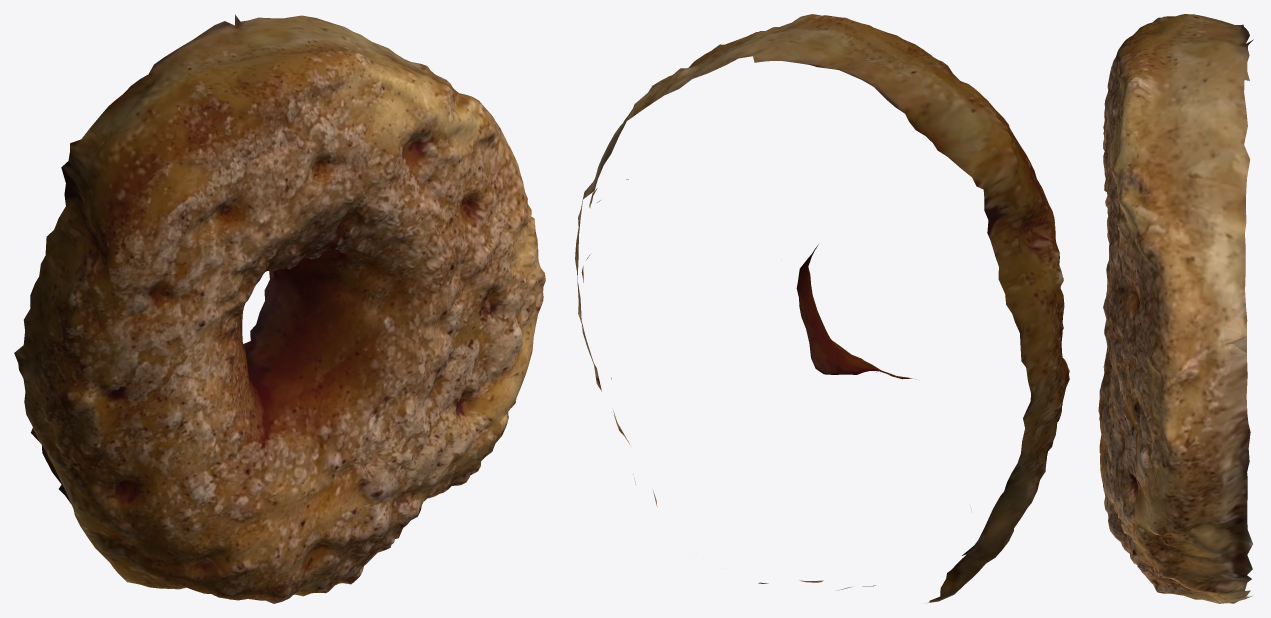
File: donut-transformed.glb
3 views of the same model, side by side, from view 1: azimuth 30°, elevation 25°; view 2: azimuth 150°, elevation 25°; view 3: azimuth 270°, elevation 25° (orthographic). The views are drawn at different scales.
Parts seen in each view (by area): view 1: Donut.001; view 2: Donut.001; view 3: Donut.001.
Part boxes in pixels (left/top/right/bottom): Donut.001: left=14, top=14, right=545, bottom=603; Donut.001: left=575, top=14, right=1069, bottom=603; Donut.001: left=1098, top=14, right=1253, bottom=603.
Bounding box in the file's own units: 0.0798 × 0.0869 × 0.0234.
1 material, 1 textured.
